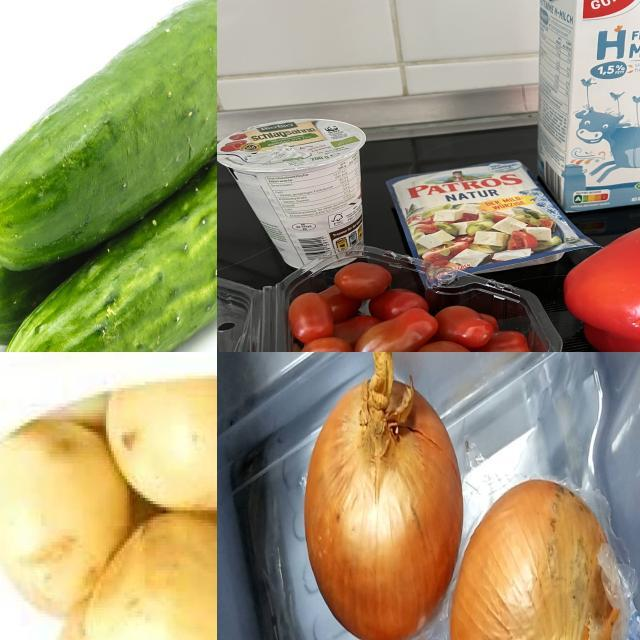bell_pepper: (573, 212, 640, 353)
cucumber: (1, 12, 218, 353), (1, 1, 218, 265)
onion: (305, 353, 461, 640), (449, 473, 626, 640)
potato: (1, 437, 127, 614), (88, 510, 218, 640), (109, 380, 218, 520)
tomato: (260, 247, 592, 353)
